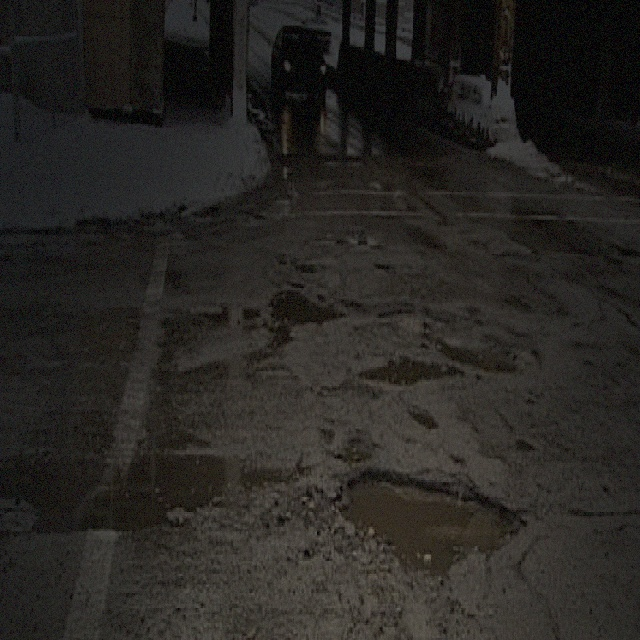pothole: (331, 463, 526, 578), (0, 443, 233, 538), (424, 324, 543, 382), (266, 280, 346, 328), (356, 352, 461, 386)
